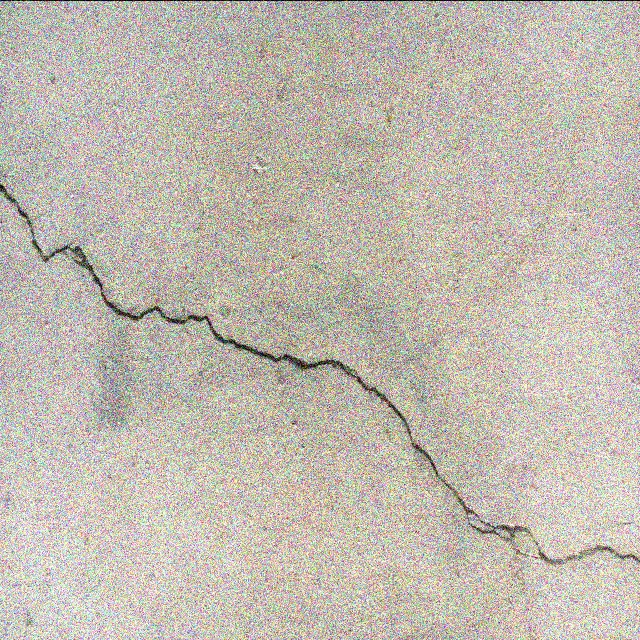SurfaceCrack: (0, 5, 637, 617)
